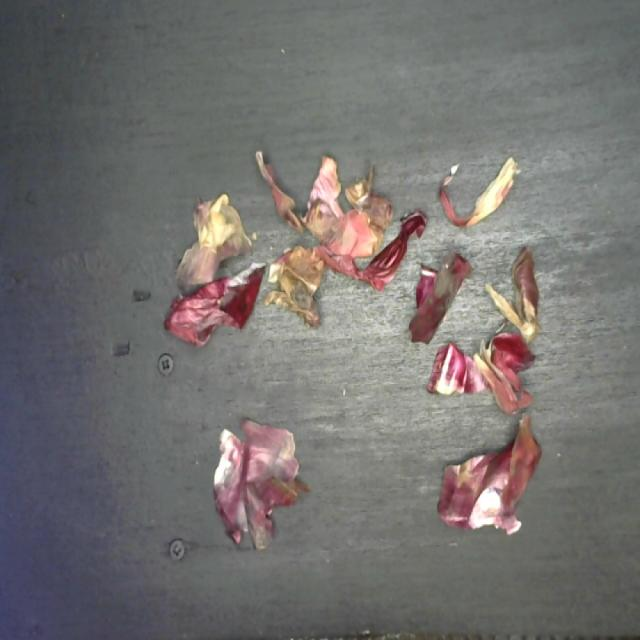biodegradable: (157, 142, 545, 557)
